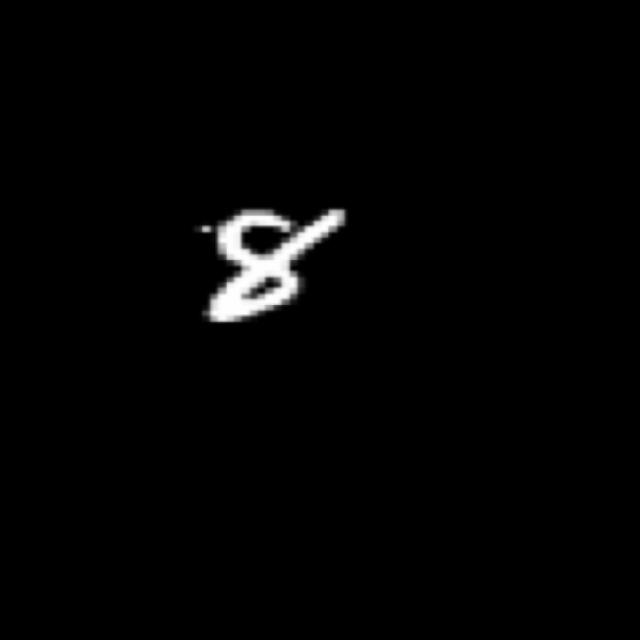eight -8-: (198, 200, 354, 326)
